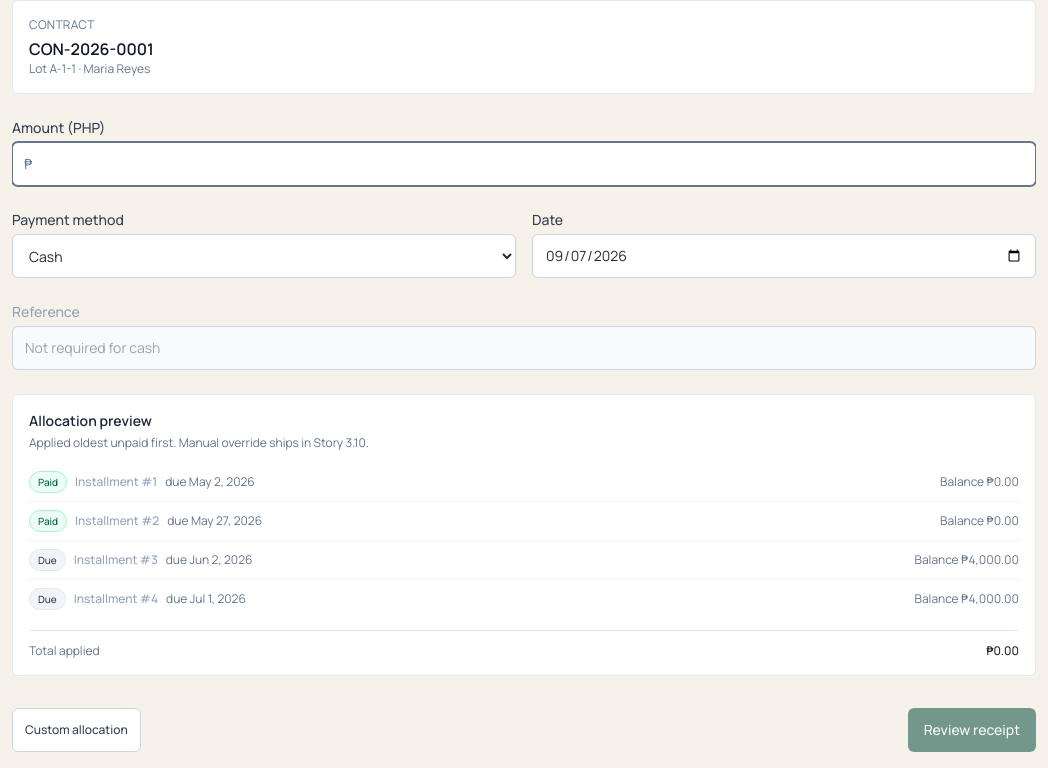
Test case: PaymentForm — rendering › renders the overpay warning when the amount exceeds the outstanding balance
Type "100000" into the field with test id "payment-amount-input" at (524, 164), box [12,142,1036,186]
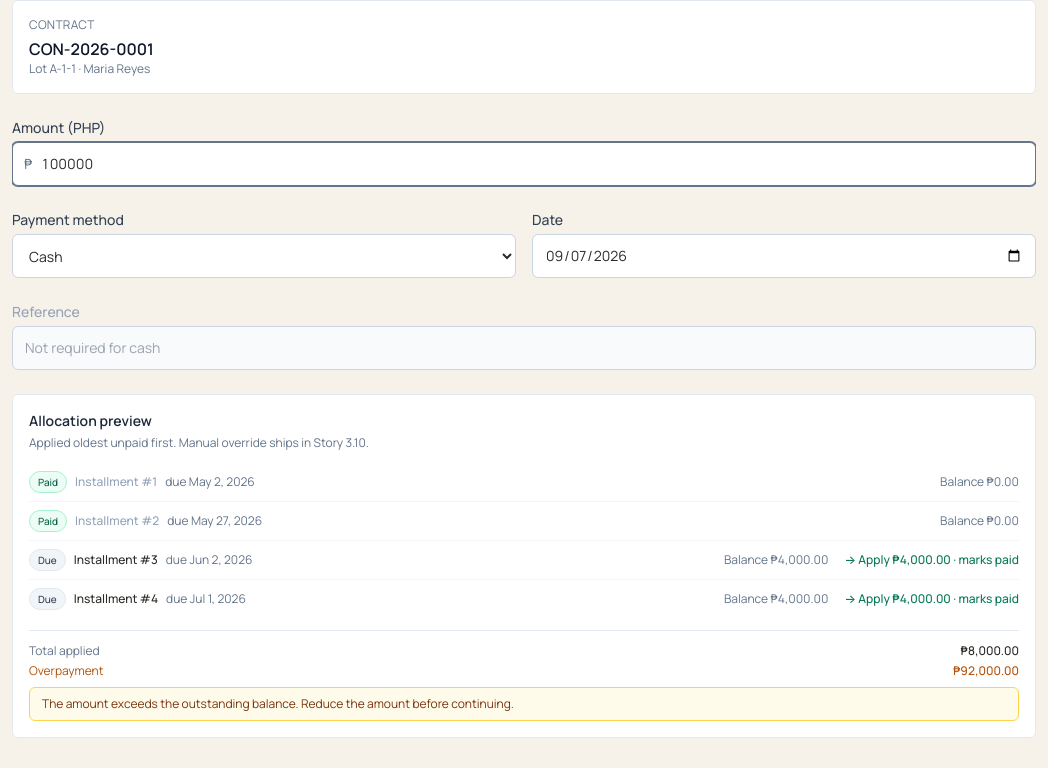
Expected: the message with test id "allocation-preview-overpay-warning" is shown, [29,687,1019,721]
